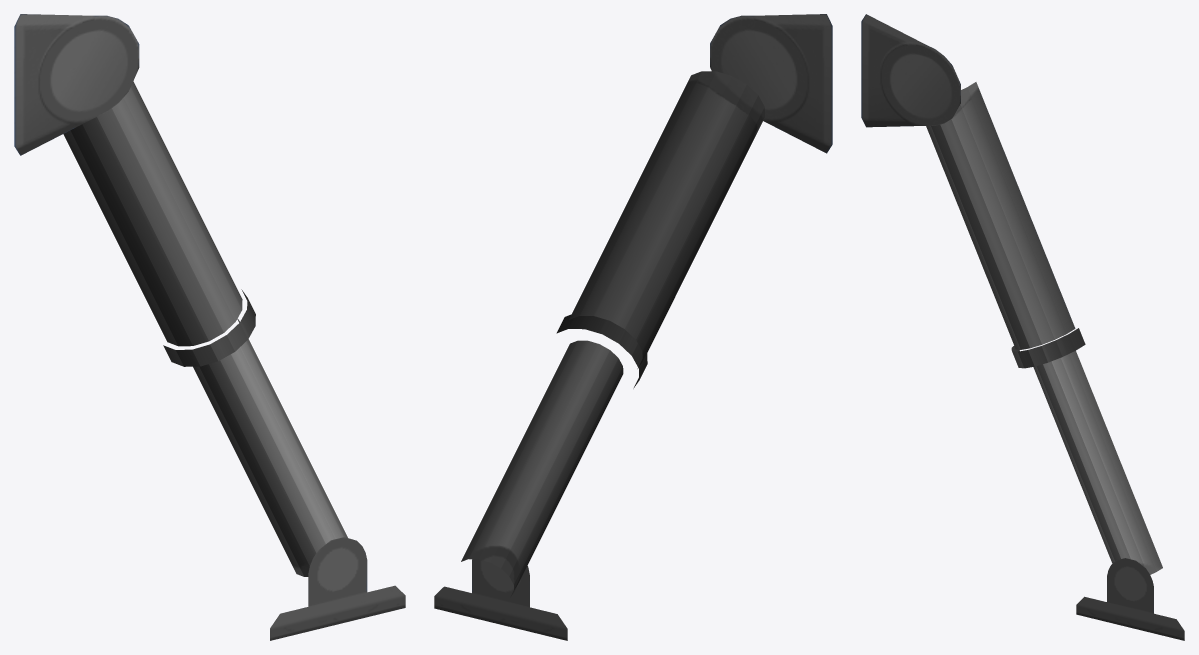
File: extended.gltf
The picture shows the model from 3 angles, left to right: view 1: azimuth 30°, elevation 25°; view 2: azimuth 150°, elevation 25°; view 3: azimuth 330°, elevation 25°; orthographic projection. The views are drawn at different scales.
Visible parts, largest first — view 1: extended leg; view 2: extended leg; view 3: extended leg.
Part boxes in pixels (x1,y1,x2,y2): extended leg: [14, 14, 405, 640]; extended leg: [434, 14, 832, 640]; extended leg: [861, 14, 1184, 640].
Size of the model in its own units: 1.65 by 2.76 by 0.1782.
1 material, 1 textured.
